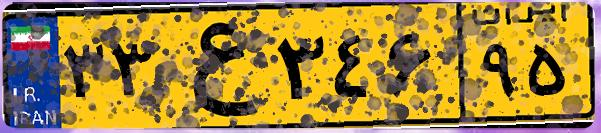3: (270, 28, 330, 110), (57, 26, 110, 100), (110, 28, 158, 98)
4: (330, 28, 385, 110)
5: (525, 38, 570, 115)
6: (385, 28, 445, 110)
9: (475, 38, 525, 113)
ع: (158, 12, 270, 120)
